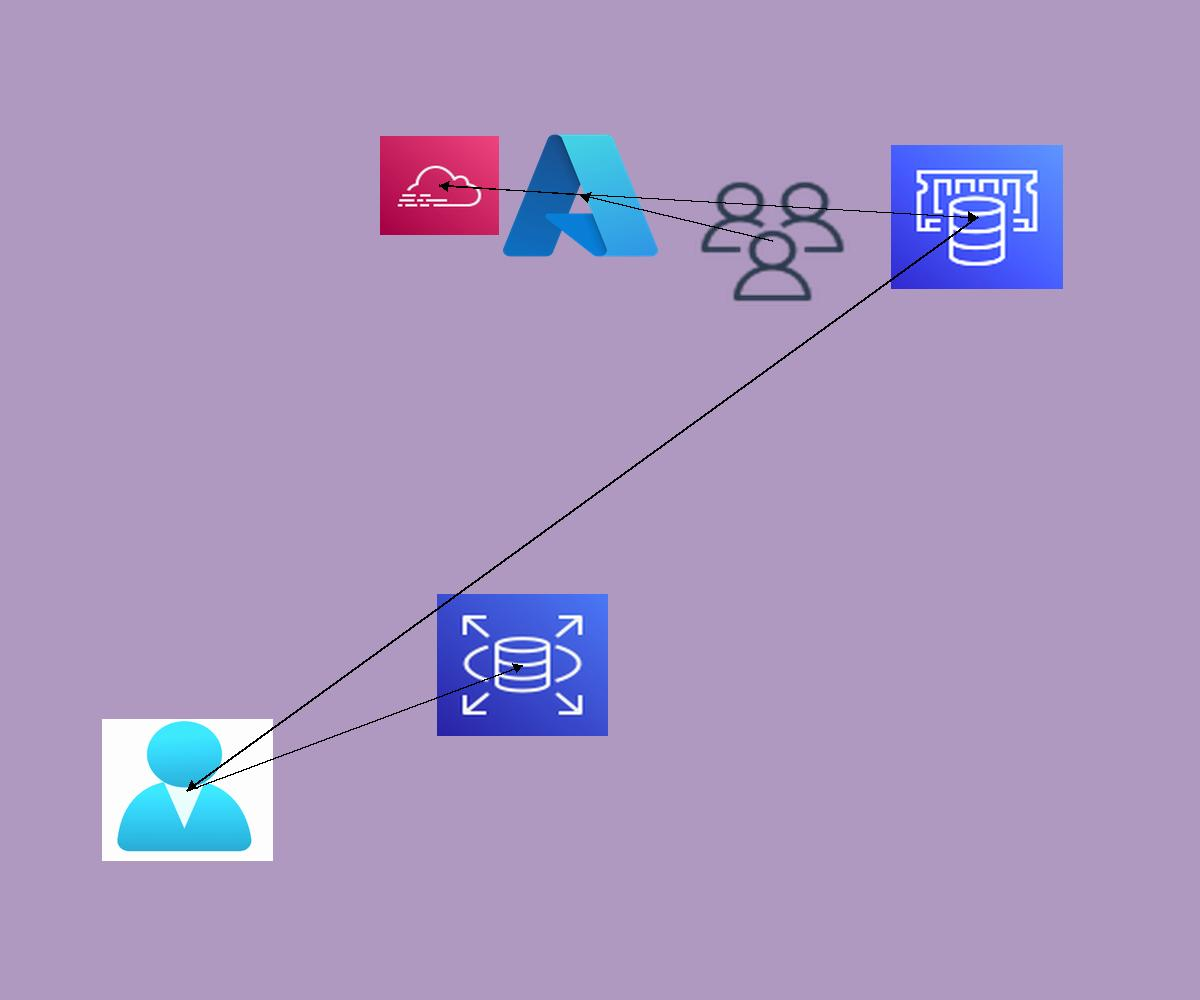AWS-CloudTrail: (380, 136, 499, 235)
AWS-ElastiCache: (891, 145, 1063, 289)
AWS-RDS: (437, 594, 608, 736)
AWS-Res_Users: (695, 177, 850, 306)
Azure_services: (496, 125, 665, 266)
Azure_users: (102, 719, 273, 861)
